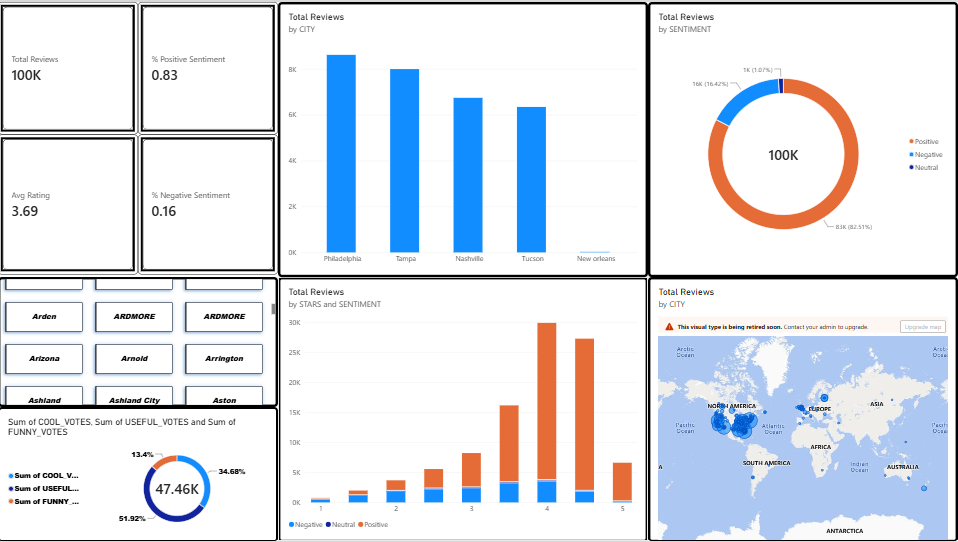

The page's visual inventory and layout, read from the dashboard file:
{"tool":"powerbi","page":{"name":"Page 1","canvas":[1920,1080],"ordinal":0},"visuals":[{"type":"cardVisual","fields":{"Data":["DIM_BUSINESS.Total Reviews"]},"box":[0,0,280,265],"z":0},{"type":"cardVisual","fields":{"Data":["DIM_BUSINESS.Avg Rating"]},"box":[0,265,280,280],"z":1000},{"type":"cardVisual","fields":{"Data":["DIM_BUSINESS.% Positive Sentiment"]},"box":[280,0,280,265],"z":2000},{"type":"cardVisual","fields":{"Data":["DIM_BUSINESS.% Negative Sentiment"]},"box":[280,265,280,280],"z":3000},{"type":"donutChart","fields":{"Category":["FACT_REVIEWS_ENRICHED.SENTIMENT"],"Y":["DIM_BUSINESS.Total Reviews"]},"box":[1300,0,620,550],"z":4000},{"type":"columnChart","fields":{"Category":["DIM_BUSINESS.STARS"],"Series":["FACT_REVIEWS_ENRICHED.SENTIMENT"],"Y":["DIM_BUSINESS.Total Reviews"]},"box":[560,550,740,530],"z":5000},{"type":"columnChart","fields":{"Category":["DIM_BUSINESS.CITY"],"Y":["DIM_BUSINESS.Total Reviews"]},"box":[560,0,740,550],"z":6000},{"type":"advancedSlicerVisual","fields":{"Values":["DIM_BUSINESS.CITY"]},"box":[0,550,560,260],"z":7000},{"type":"map","fields":{"Category":["DIM_BUSINESS.CITY"],"Size":["DIM_BUSINESS.Total Reviews"]},"box":[1300,550,620,530],"z":8000},{"type":"donutChart","fields":{"Y":["Sum(FACT_REVIEWS_ENRICHED.COOL_VOTES)","Sum(FACT_REVIEWS_ENRICHED.USEFUL_VOTES)","Sum(FACT_REVIEWS_ENRICHED.FUNNY_VOTES)"]},"box":[0,810,560,270],"z":9000}]}

Visuals, with their boxes in screenshot pixels (x1, y1, x2, y2), scaled from the page's 1920x1080 canvas onto the 958x542 screenshot:
cardVisual - DIM_BUSINESS.Total Reviews: region(0, 0, 140, 133)
cardVisual - DIM_BUSINESS.Avg Rating: region(0, 133, 140, 274)
cardVisual - DIM_BUSINESS.% Positive Sentiment: region(140, 0, 279, 133)
cardVisual - DIM_BUSINESS.% Negative Sentiment: region(140, 133, 279, 274)
donutChart - FACT_REVIEWS_ENRICHED.SENTIMENT x DIM_BUSINESS.Total Reviews: region(649, 0, 957, 276)
columnChart - DIM_BUSINESS.STARS x FACT_REVIEWS_ENRICHED.SENTIMENT: region(279, 276, 649, 541)
columnChart - DIM_BUSINESS.CITY x DIM_BUSINESS.Total Reviews: region(279, 0, 649, 276)
advancedSlicerVisual - DIM_BUSINESS.CITY: region(0, 276, 279, 406)
map - DIM_BUSINESS.CITY x DIM_BUSINESS.Total Reviews: region(649, 276, 957, 541)
donutChart - Sum(FACT_REVIEWS_ENRICHED.COOL_VOTES) x Sum(FACT_REVIEWS_ENRICHED.USEFUL_VOTES): region(0, 406, 279, 541)
